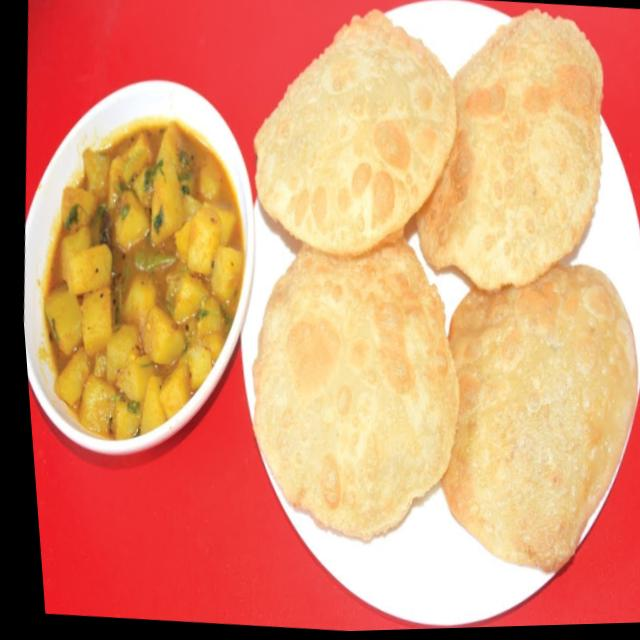KURMA: (44, 125, 244, 435)
POORI: (248, 3, 640, 568)
